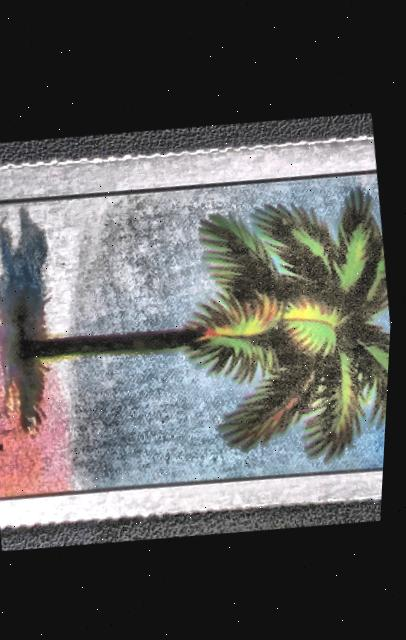La Palma: (0, 126, 401, 534)
